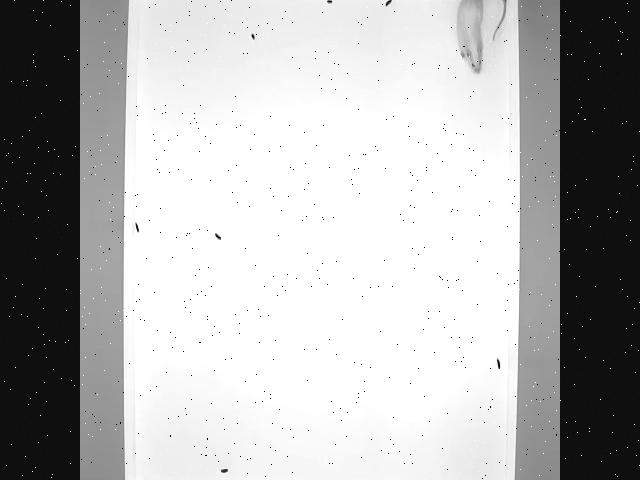Tikus: (455, 0, 511, 75)
